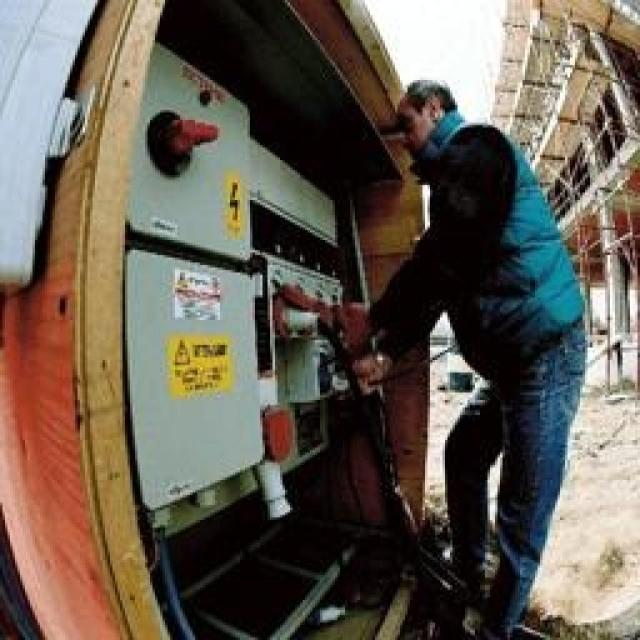Helmet: (398, 137, 604, 410), (375, 70, 455, 170)
